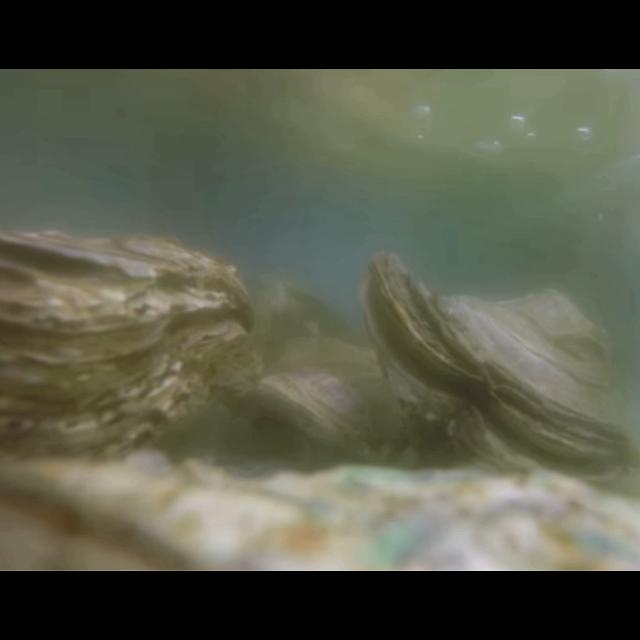Oyster-Closed: (0, 227, 252, 477)
Oyster-Indeterminate: (0, 447, 640, 571), (260, 336, 422, 468)
Oyster-Open: (358, 252, 640, 494)
